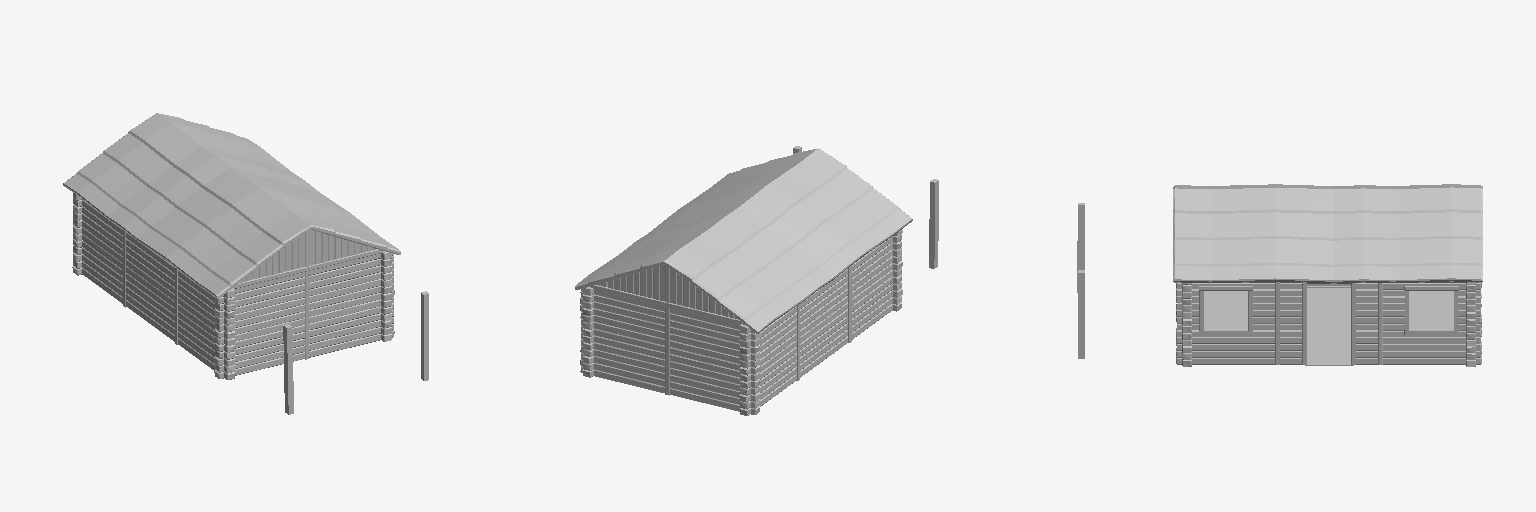
File: house.obj
3 renders of one model, left to right at view 1: azimuth 30°, elevation 25°; view 2: azimuth 150°, elevation 25°; view 3: azimuth 270°, elevation 25°, orthographic.
Parts seen in each view (by area): view 1: Wooden_house; view 2: Wooden_house; view 3: Wooden_house.
Part boxes in pixels (x1,y1,x2,y2): Wooden_house: (63,113,428,414); Wooden_house: (575,146,938,415); Wooden_house: (1077,184,1482,366).
Bounding box in the file's own units: 4.34 × 3.14 × 8.29.